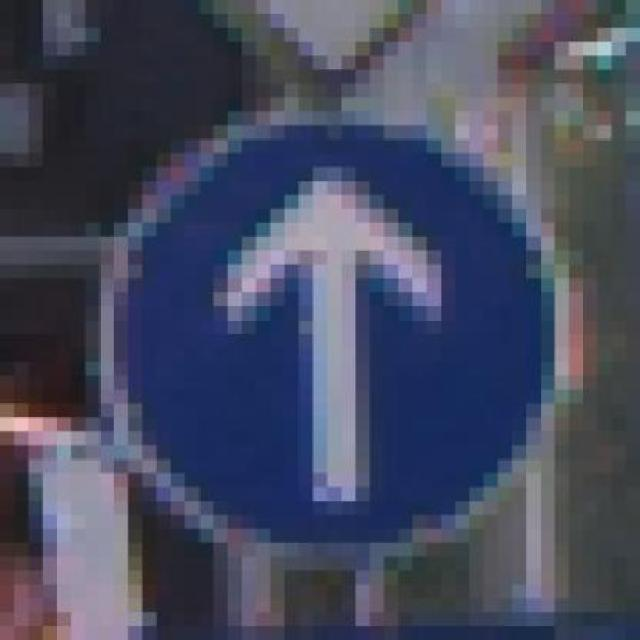Straight Ahead Only: (71, 97, 569, 571)
